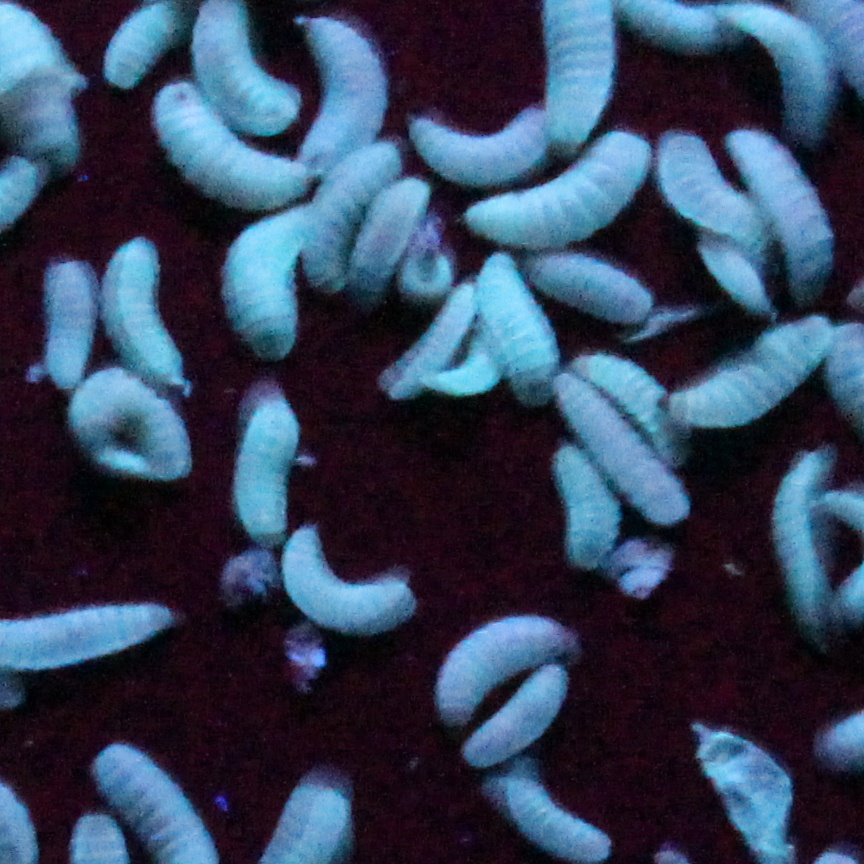larve: (542, 356, 696, 526), (149, 74, 317, 210), (726, 124, 855, 285), (662, 317, 833, 433), (464, 140, 642, 249), (283, 521, 424, 640), (101, 231, 196, 399), (74, 367, 201, 485), (653, 126, 769, 251), (301, 3, 385, 169), (403, 106, 560, 194), (433, 619, 571, 719), (221, 210, 308, 353), (301, 146, 392, 281), (474, 256, 558, 401), (228, 387, 301, 544), (496, 767, 617, 860), (387, 278, 480, 390), (469, 665, 564, 771), (585, 353, 676, 462), (342, 183, 437, 271), (780, 446, 828, 617), (533, 258, 660, 315), (46, 249, 92, 403), (549, 446, 612, 558), (705, 246, 767, 310), (455, 337, 487, 410)
